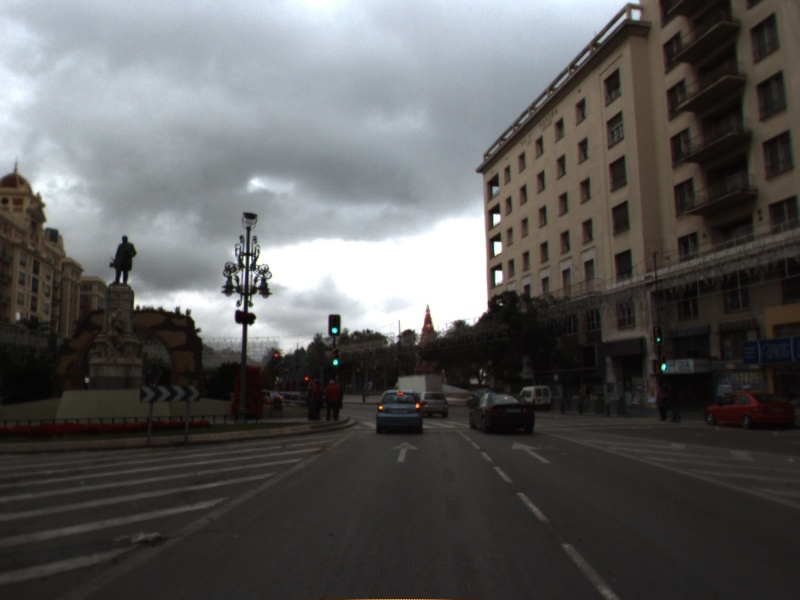STRAIGHT: (509, 439, 554, 466), (389, 439, 421, 464)
